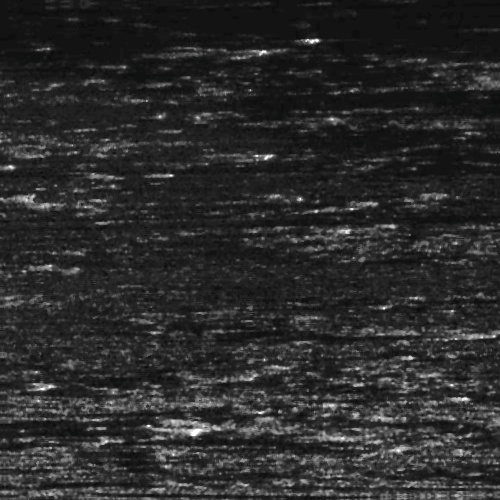object: (379, 330, 500, 345), (167, 45, 312, 56), (128, 421, 243, 430), (23, 374, 76, 385), (240, 145, 271, 162), (274, 433, 347, 440)
shadow: (247, 330, 468, 345), (358, 214, 500, 229), (148, 145, 255, 162), (109, 433, 310, 440), (43, 421, 185, 430), (414, 297, 500, 308), (167, 45, 239, 56), (381, 139, 500, 144), (0, 374, 50, 385)
